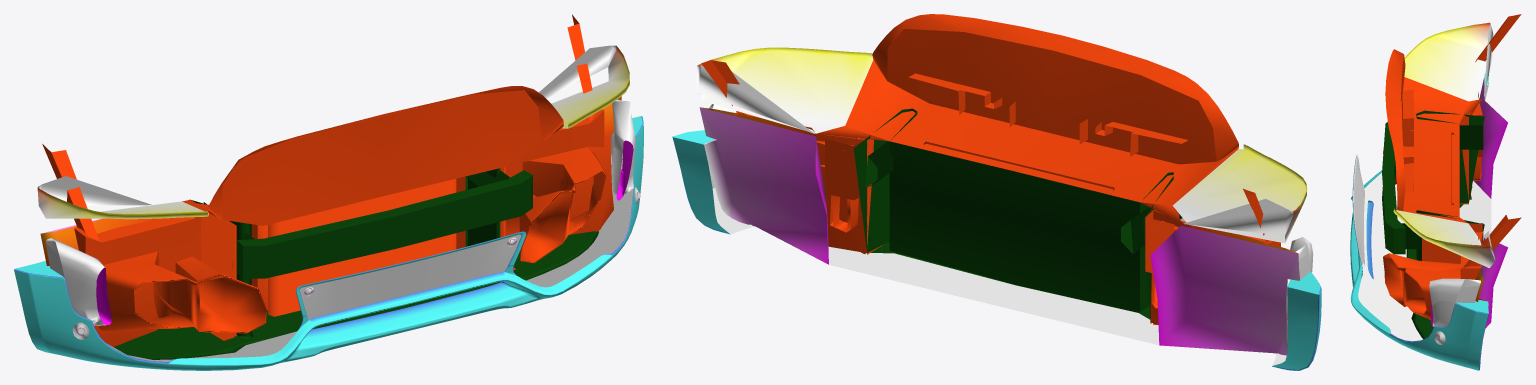
Rendered from Car_Mini_CountrymanJCW_2017_BumperChassisF_SetA_AltD.fbx.
3 views of the same model, side by side, from view 1: azimuth 30°, elevation 25°; view 2: azimuth 150°, elevation 25°; view 3: azimuth 270°, elevation 25° (orthographic). The views are drawn at different scales.
Parts seen in each view (by area): view 1: BumperChassisF 6; view 2: BumperChassisF 6; view 3: BumperChassisF 6.
Part boxes in pixels (x1,y1,x2,y2): BumperChassisF 6: (14,14,643,370); BumperChassisF 6: (672,14,1321,370); BumperChassisF 6: (1350,14,1521,370).
Size of the model in its own units: 1.89 by 0.6196 by 0.5661.
